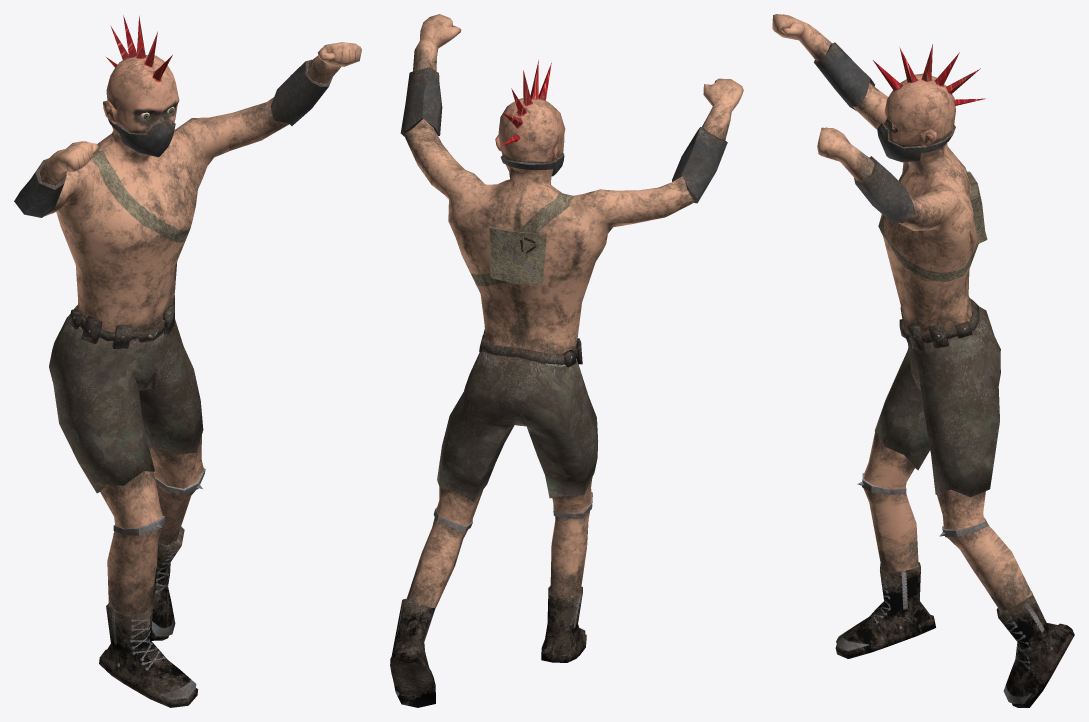
File: Anim_ganar_1_npc2.0025.obj
3 views of the same model, side by side, from view 1: azimuth 30°, elevation 25°; view 2: azimuth 150°, elevation 25°; view 3: azimuth 270°, elevation 25° (orthographic). The views are drawn at different scales.
Visible parts, largest first — view 1: polySurface1; view 2: polySurface1; view 3: polySurface1.
Boxes of the visible parts, left/top/right/bottom form: polySurface1: left=14, top=15, right=361, bottom=707; polySurface1: left=390, top=14, right=743, bottom=707; polySurface1: left=772, top=14, right=1074, bottom=707.
Bounding box in the file's own units: 5.27 × 10.49 × 4.55.
